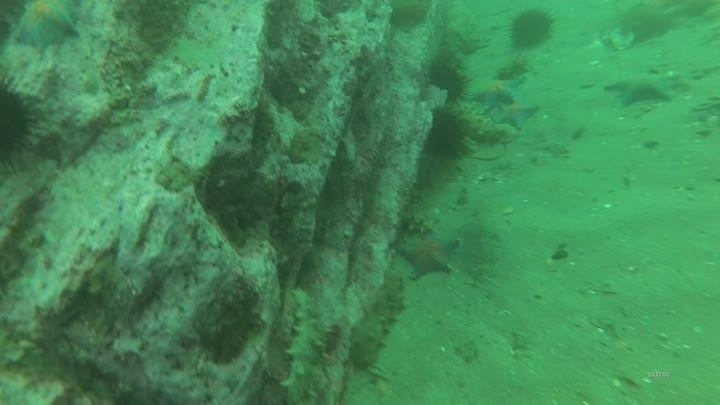echinus: (1, 75, 42, 170), (423, 106, 473, 163), (505, 6, 558, 53), (424, 57, 471, 105)
holothurian: (279, 285, 333, 404), (347, 269, 409, 372), (449, 101, 515, 148)
starfish: (10, 1, 83, 53), (395, 229, 462, 282), (602, 68, 682, 110), (466, 74, 526, 112), (491, 99, 541, 130)
